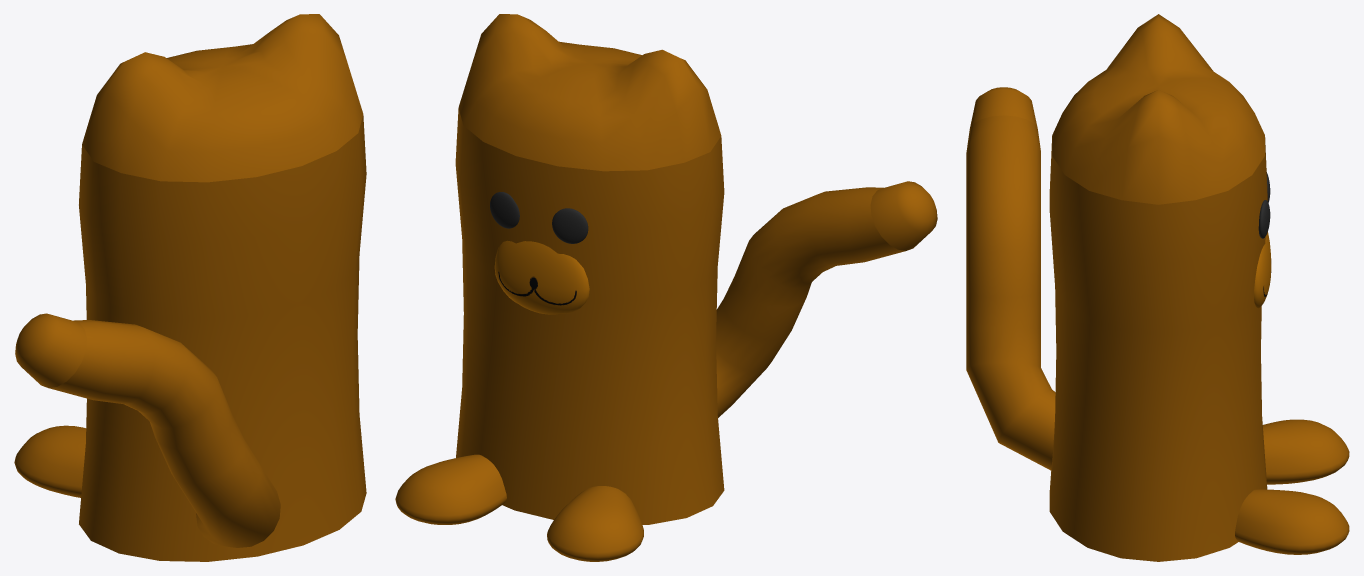
File: Cat.FBX
3 renders of one model, left to right at view 1: azimuth 30°, elevation 25°; view 2: azimuth 150°, elevation 25°; view 3: azimuth 270°, elevation 25°, orthographic. The views are drawn at different scales.
Visible parts, largest first — view 1: Cylinder001, Cylinder002, Sphere002; view 2: Cylinder001, Cylinder002, Sphere001, Sphere002, Sphere006, Sphere005, Sphere003; view 3: Cylinder001, Cylinder002, Sphere001, Sphere002, Sphere006.
Boxes of the visible parts, x1,y1,x2,y2 form: Cylinder001: (79,14,366,561); Cylinder002: (15,313,280,547); Sphere002: (14,425,86,497); Cylinder001: (455,14,724,524); Cylinder002: (716,181,937,417); Sphere001: (395,454,506,524); Sphere002: (547,486,643,561); Sphere006: (494,240,589,314); Sphere005: (552,208,588,243); Sphere003: (490,192,519,228); Cylinder001: (1049,14,1267,561); Cylinder002: (966,87,1055,470); Sphere001: (1235,489,1349,554); Sphere002: (1262,419,1349,484); Sphere006: (1254,232,1271,308).
Size of the model in its own units: 56.68 by 63.16 by 48.04.
Materials: 7 (7 with a texture image).
